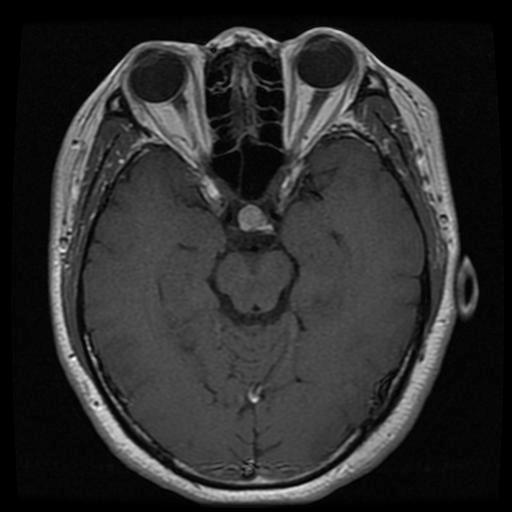Tumour-Pituitary: (231, 203, 282, 239)
